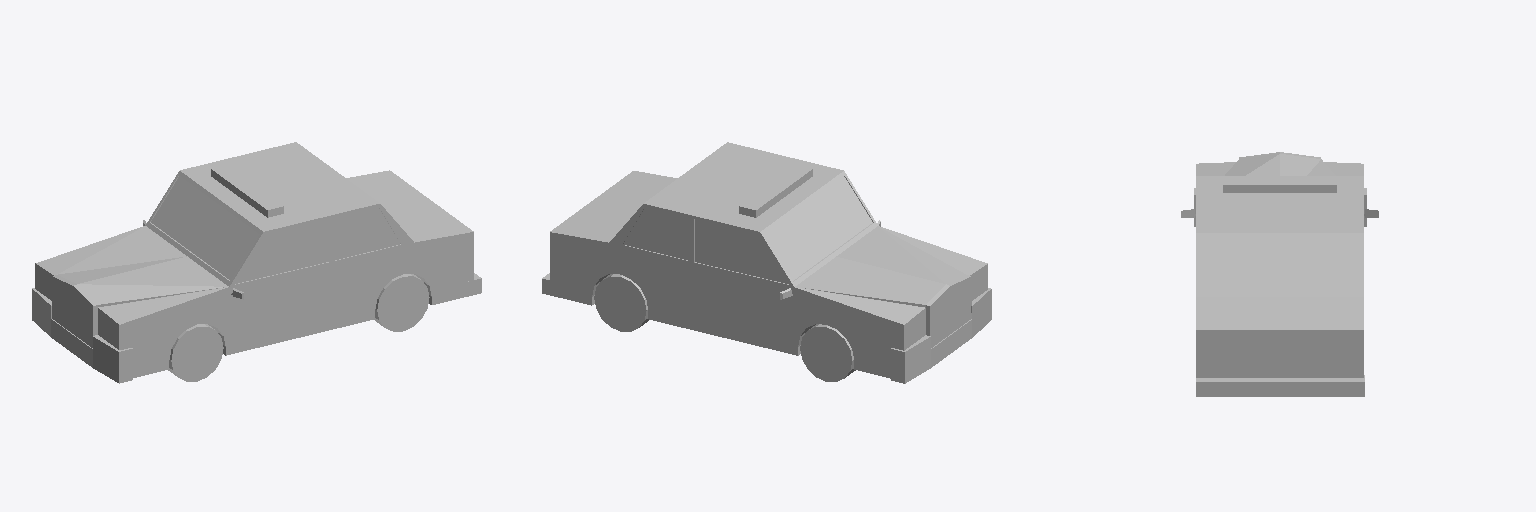
The model's file is Police Car.obj.
3 renders of one model, left to right at view 1: azimuth 30°, elevation 25°; view 2: azimuth 150°, elevation 25°; view 3: azimuth 270°, elevation 25°, orthographic.
Parts seen in each view (by area): view 1: Car_Body, Wheel_FL, Wheel_RL; view 2: Car_Body, Wheel_RR, Wheel_FR; view 3: Car_Body.
Boxes of the visible parts, <box> form: Car_Body: <box>32,142,481,383</box>; Wheel_FL: <box>168,324,223,381</box>; Wheel_RL: <box>374,274,429,331</box>; Car_Body: <box>542,142,991,383</box>; Wheel_RR: <box>594,274,648,331</box>; Wheel_FR: <box>800,324,855,381</box>; Car_Body: <box>1181,152,1378,396</box>.
Bounding box in the file's own units: 249 × 91.25 × 116.